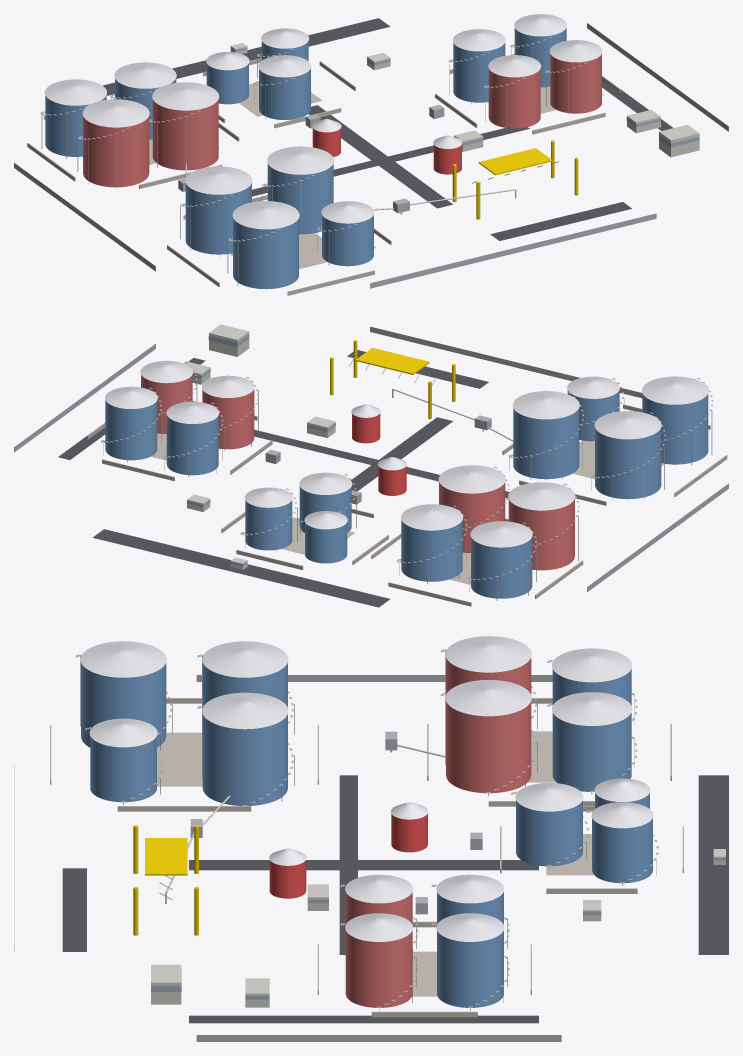
The model's file is depot_model.glb.
The picture shows the model from 3 angles, top to bottom: view 1: azimuth 30°, elevation 25°; view 2: azimuth 150°, elevation 25°; view 3: azimuth 270°, elevation 25°; orthographic projection. The views are drawn at different scales.
Visible parts, largest first — view 1: TK-A03, TK-A04, TK-D03, TK-D01, TK-D02, TK-C03, TK-C04, TK-D04, TK-B03, TK-C01, TK-A01, Road_1 (+33 smaller); view 2: TK-D02, TK-D01, Road_0, TK-A01, TK-A02, TK-D03, TK-A03, TK-C01, TK-C02, TK-A04, TK-B02, TK-C03 (+32 smaller); view 3: TK-A04, TK-D02, Road_0, TK-A02, TK-D03, TK-C04, TK-C02, TK-D04, TK-B03, TK-B02, Road_1, Road_4 (+35 smaller).
Boxes of the visible parts, left/top/right/bottom form: TK-A03: left=83, top=116, right=149, bottom=187; TK-A04: left=152, top=99, right=218, bottom=170; TK-D03: left=233, top=218, right=298, bottom=288; TK-D01: left=185, top=183, right=251, bottom=254; TK-D02: left=267, top=163, right=333, bottom=234; TK-C03: left=488, top=68, right=540, bottom=128; TK-C04: left=550, top=54, right=601, bottom=113; TK-D04: left=322, top=215, right=373, bottom=266; TK-B03: left=259, top=68, right=310, bottom=119; TK-C01: left=453, top=43, right=505, bottom=102; TK-A01: left=45, top=95, right=106, bottom=156; Road_1: left=308, top=105, right=452, bottom=208; TK-D02: left=513, top=408, right=579, bottom=479; TK-D01: left=595, top=428, right=661, bottom=499; Road_0: left=92, top=529, right=389, bottom=607; TK-A01: left=471, top=537, right=532, bottom=598; TK-A02: left=401, top=520, right=462, bottom=581; TK-D03: left=642, top=393, right=708, bottom=464; TK-A03: left=508, top=499, right=574, bottom=570; TK-C01: left=166, top=415, right=218, bottom=475; TK-C02: left=105, top=400, right=157, bottom=460; TK-A04: left=439, top=482, right=505, bottom=552; TK-B02: left=245, top=500, right=292, bottom=550; TK-C03: left=202, top=389, right=254, bottom=449; TK-A04: left=446, top=701, right=531, bottom=793; TK-D02: left=202, top=714, right=287, bottom=805; Road_0: left=698, top=775, right=728, bottom=954; TK-A02: left=552, top=712, right=631, bottom=791; TK-D03: left=81, top=663, right=166, bottom=747; TK-C04: left=345, top=931, right=412, bottom=1007; TK-C02: left=437, top=931, right=503, bottom=1007; TK-D04: left=90, top=736, right=156, bottom=802; TK-B03: left=516, top=800, right=582, bottom=866; TK-B02: left=592, top=818, right=652, bottom=883; Road_1: left=189, top=860, right=538, bottom=870; Road_4: left=189, top=1015, right=538, bottom=1023.
Size of what is drawn, in the model's own units: 140 by 15.5 by 118.
